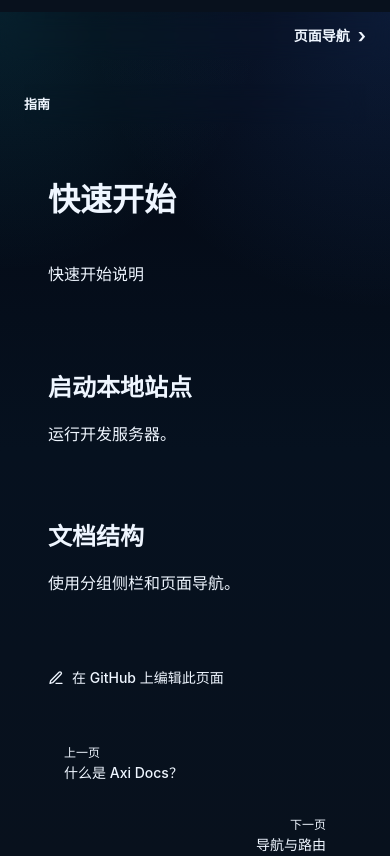
Test case: HomeCommandCenter › exposes page navigation through a narrow-screen disclosure
The image size is (390, 856).
Click the button "页面导航". click: point(322, 36)
box: [24, 12, 366, 60]
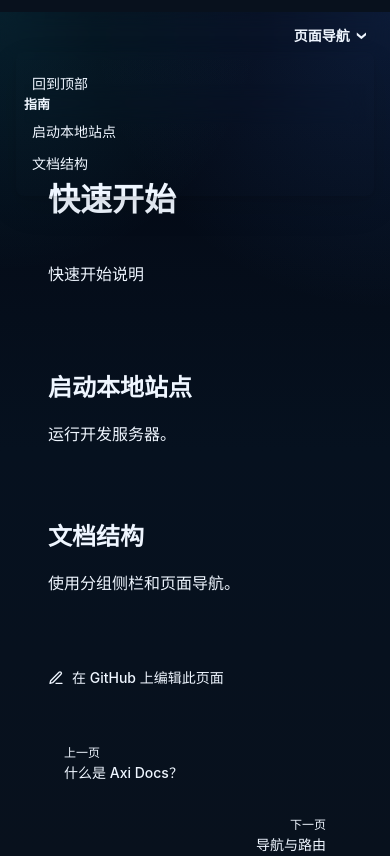
Now the button "页面导航" is expanded, box [24, 12, 366, 60]
Click the button "启动本地站点". click: point(74, 132)
box: [16, 116, 374, 148]
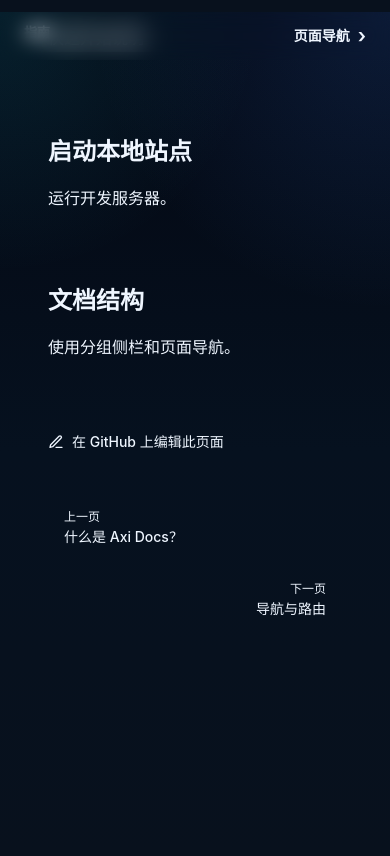
Now the button "页面导航" is collapsed, box [24, 12, 366, 60]
Now the element "移动页面导航" is gone
